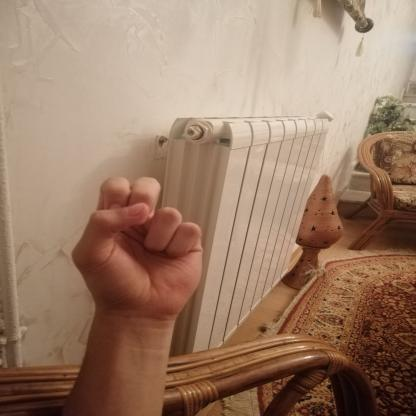QAAF: (57, 167, 218, 332)
